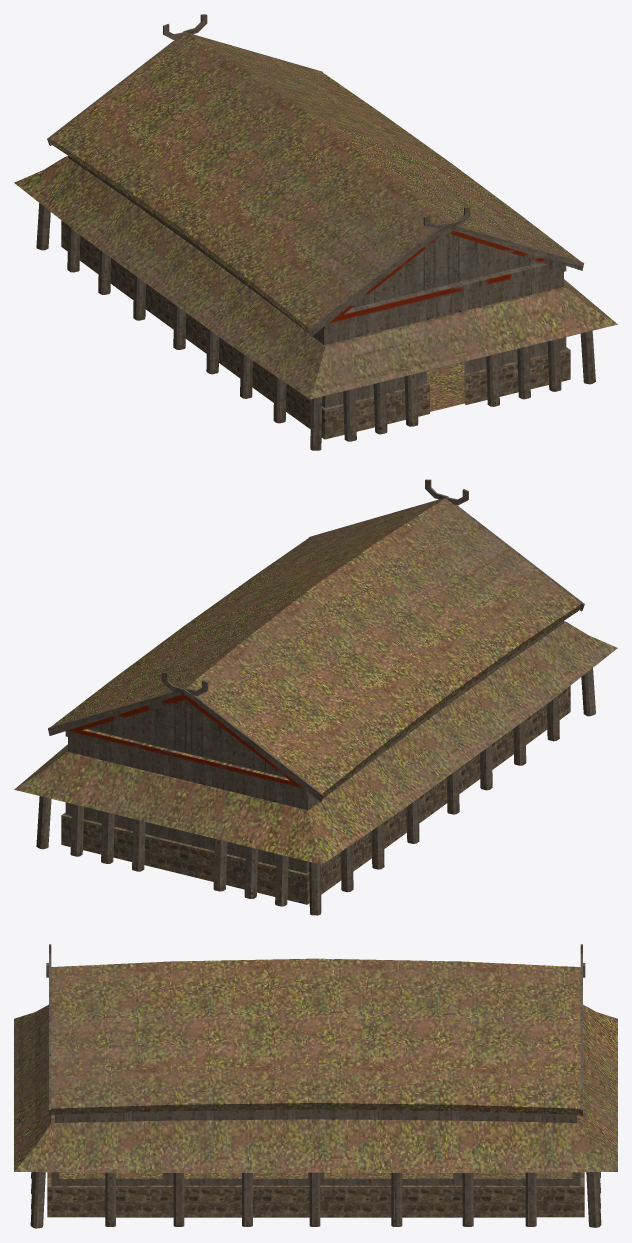
Rendered from GD 3D long house V1.fbx.
3 views of the same model, one above another, from view 1: azimuth 30°, elevation 25°; view 2: azimuth 150°, elevation 25°; view 3: azimuth 270°, elevation 25° (orthographic).
Parts seen in each view (by area): view 1: GD Assets Viking Castle Baked; view 2: GD Assets Viking Castle Baked; view 3: GD Assets Viking Castle Baked.
Part boxes in pixels (<box>): GD Assets Viking Castle Baked: <box>14,14,617,450</box>; GD Assets Viking Castle Baked: <box>14,479,617,915</box>; GD Assets Viking Castle Baked: <box>14,944,617,1228</box>.
Bounding box in the file's own units: 1972 × 3147 × 1173.
